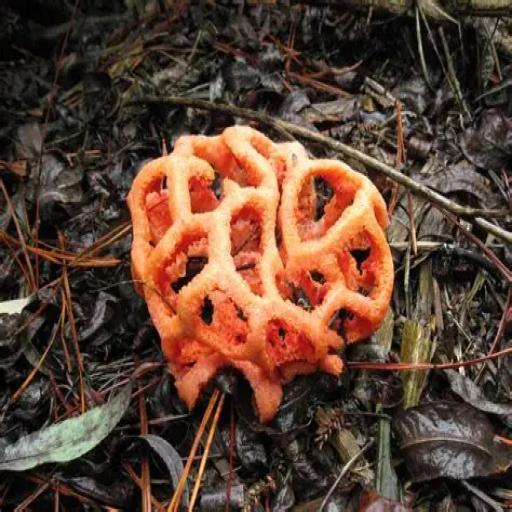mushroom: (123, 121, 395, 419)
